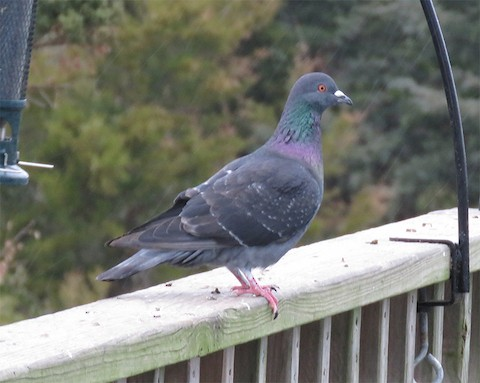pigeon: (91, 65, 356, 324)
